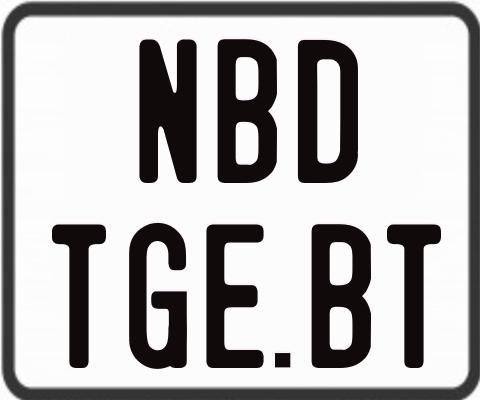B: (215, 38, 280, 185), (309, 224, 371, 373)
D: (297, 39, 362, 185)
E: (205, 221, 264, 366)
G: (129, 222, 192, 372)
N: (136, 36, 196, 186)
T: (385, 223, 443, 371), (51, 221, 106, 368)
